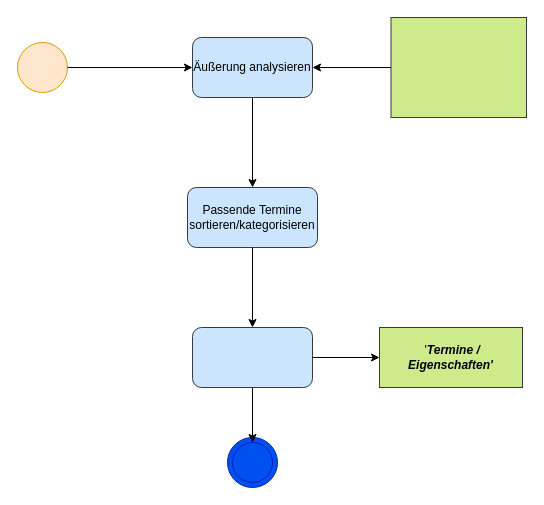
This 544x505 diagram has some shape labels left out. The shapes that lost their labels are listed below. From the top down, each one's centre as x and y in pixels, then its label:
At (x=458, y=67): "'Alexa sage mir alle Termine/Eigenschaften mit Eigenschaft Eigenschaft '".
At (x=252, y=357): "Kategorisierte Termine/Eigenschaften Ausgeben".
